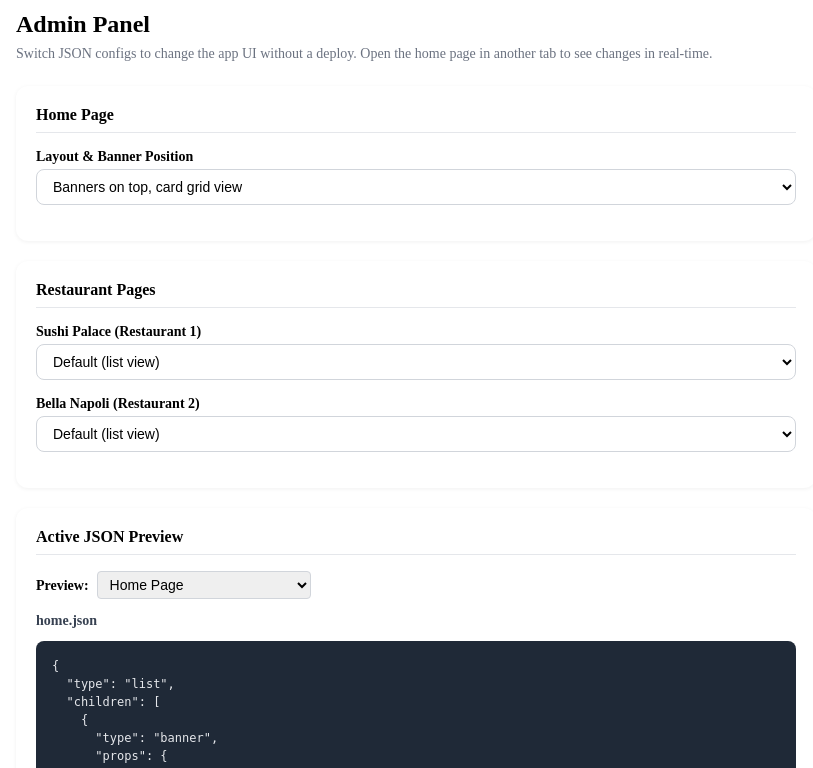
it: AdminPanel › switches the home config when selecting a variant
Select "Banners on bottom, cards + offer banners" in the dropdown below "Layout & Banner Position": (416, 187) [36,169,796,205]
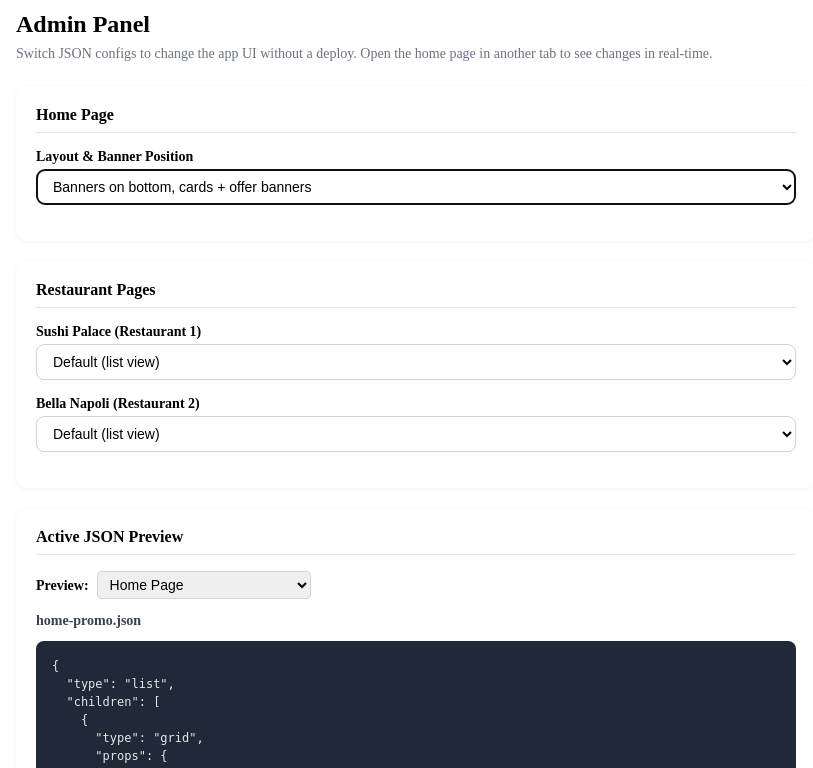
Result: the heading "home-promo.json" is shown at [36,613,141,628]
